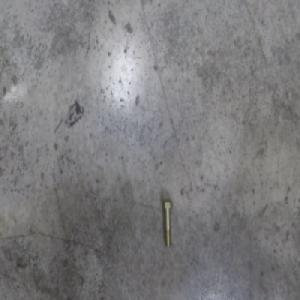Bolt: (161, 199, 173, 249)
